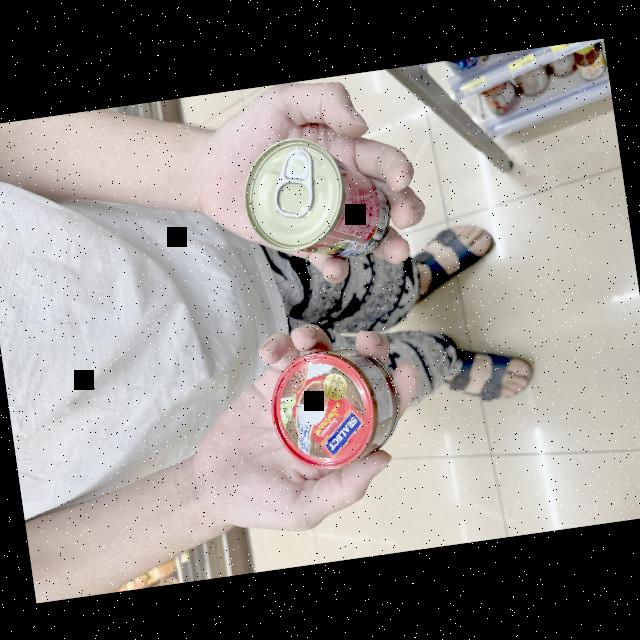can: (226, 122, 397, 284), (256, 332, 394, 476)
